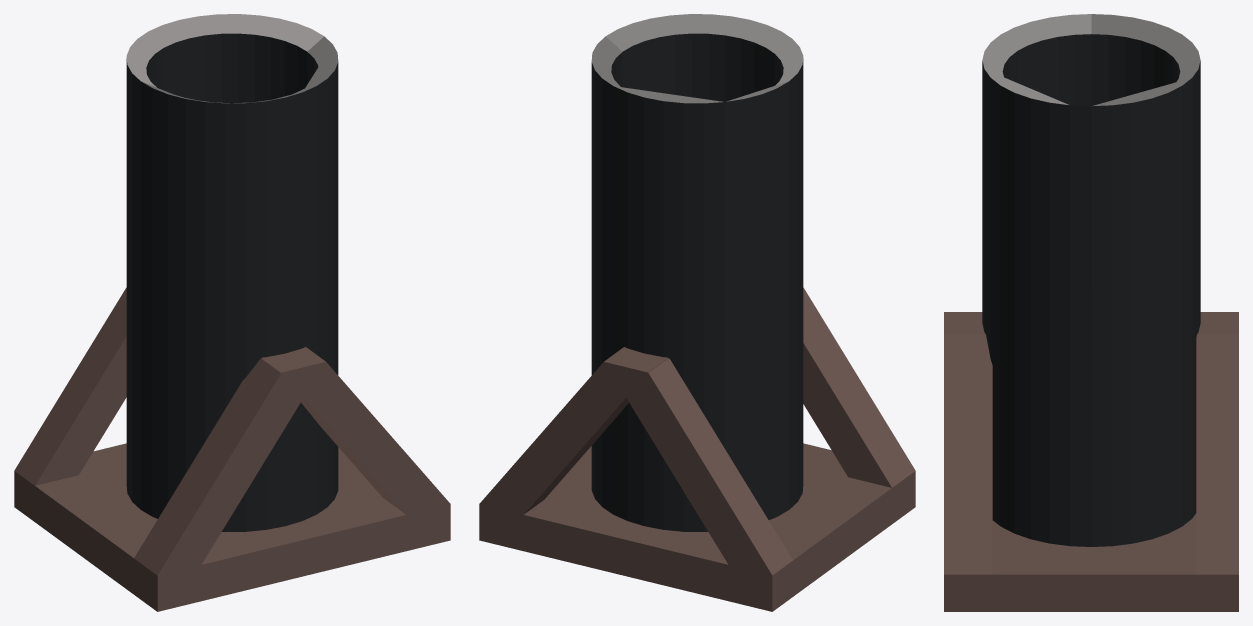
The model's file is 10InchMortar.fbx.
3 renders of one model, left to right at view 1: azimuth 30°, elevation 25°; view 2: azimuth 150°, elevation 25°; view 3: azimuth 270°, elevation 25°, orthographic. The views are drawn at different scales.
Visible parts, largest first — view 1: Cylinder, Cube; view 2: Cylinder, Cube; view 3: Cylinder, Cube.
Boxes of the visible parts, bbox=[...] form: Cylinder: bbox=[126, 14, 338, 531]; Cube: bbox=[14, 287, 450, 611]; Cylinder: bbox=[591, 14, 803, 531]; Cube: bbox=[479, 287, 915, 611]; Cylinder: bbox=[982, 14, 1200, 546]; Cube: bbox=[944, 312, 1238, 611].
Size of the model in its own units: 60 by 90.94 by 50.78.
